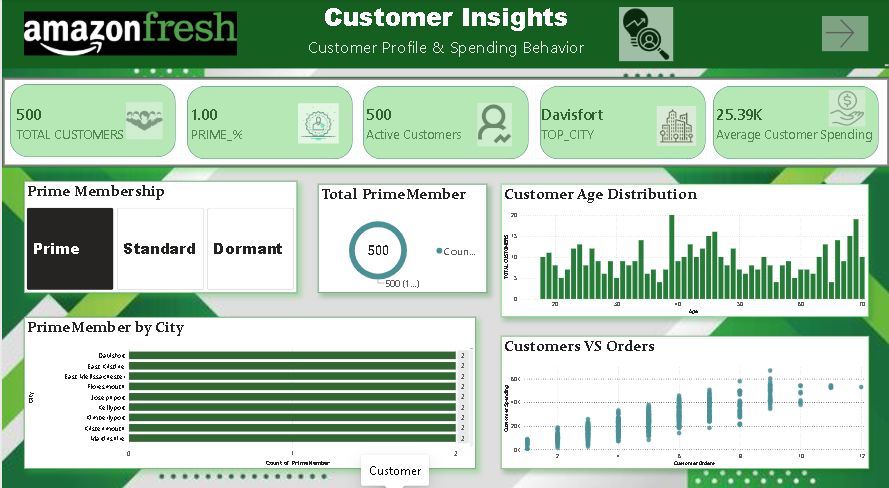

The page's visual inventory and layout, read from the dashboard file:
{"tool":"powerbi","page":{"name":"Customer ","canvas":[1920,1080],"ordinal":2},"visuals":[{"type":"textbox","title":"Customer Insights","box":[0,0,1919.6,150],"z":0},{"type":"cardVisual","fields":{"Data":["customers.TOTAL CUSTOMERS","customers.PRIME_%","customers.Active Customers","customers.TOP_CITY","customers.Average Customer Spending"]},"box":[0,169,1920.7,195.4],"z":1000},{"type":"shape","box":[17.6,184.4,357.8,158],"z":2000},{"type":"shape","box":[399.5,188.8,357.8,158],"z":3000},{"type":"shape","box":[779.3,188.8,357.8,158],"z":4000},{"type":"shape","box":[1161.2,188.8,357.8,158],"z":5000},{"type":"shape","box":[1536.6,188.8,357.8,158],"z":6000},{"type":"advancedSlicerVisual","title":"Prime Membership","fields":{"Values":["customers.CustomerSegment1"]},"box":[47.9,393.1,589.6,241.9],"z":7000},{"type":"clusteredBarChart","title":"PrimeMember by City","fields":{"Category":["customers.City"],"Y":["CountNonNull(customers.PrimeMember)"]},"box":[47.5,686.9,976.3,328.3],"z":8000},{"type":"columnChart","title":"Customer Age Distribution","fields":{"Category":["customers.Age"],"Y":["customers.TOTAL CUSTOMERS"]},"box":[1078.4,400.6,793.7,287.2],"z":9000},{"type":"donutChart","title":"Total PrimeMember","fields":{"Y":["CountNonNull(customers.PrimeMember)"]},"box":[682.6,400,365.2,234.8],"z":10000},{"type":"image","box":[267.8,215.1,79,94.4],"z":11000},{"type":"image","box":[638.8,217.3,87.8,101],"z":12000},{"type":"image","box":[979,223.9,171.2,94.4],"z":13000},{"type":"image","box":[1395.9,231.8,122.9,85.6],"z":14000},{"type":"image","box":[1778,197.6,94.4,79],"z":15000},{"type":"scatterChart","title":"Customers VS Orders ","fields":{"Category":["customers.Name"],"X":["Total Customers.Customer Orders"],"Y":["Total Customers.Customer Spending"]},"box":[1077.8,727.9,794.9,287.3],"z":16000},{"type":"actionButton","box":[1771.7,37,100,76.1],"z":17000},{"type":"image","box":[1306.8,17.3,168.5,116.6],"z":18000},{"type":"image","box":[47.5,0,460.1,149],"z":19000}]}

Visuals, with their boxes in screenshot pixels (x1, y1, x2, y2), scaled from the page's 1920x1080 canvas onto the 889x488 screenshot:
"Customer Insights" textbox: 0 0 888 68
cardVisual - customers.TOTAL CUSTOMERS x customers.PRIME_%: 0 76 888 165
shape: 8 83 174 155
shape: 185 85 351 157
shape: 361 85 527 157
shape: 538 85 703 157
shape: 711 85 877 157
"Prime Membership" advancedSlicerVisual: 22 178 295 287
"PrimeMember by City" clusteredBarChart: 22 310 474 459
"Customer Age Distribution" columnChart: 499 181 867 311
"Total PrimeMember" donutChart: 316 181 485 287
image: 124 97 161 140
image: 296 98 336 144
image: 453 101 533 144
image: 646 105 703 143
image: 823 89 867 125
"Customers VS Orders " scatterChart: 499 329 867 459
actionButton: 820 17 867 51
image: 605 8 683 61
image: 22 0 235 67
